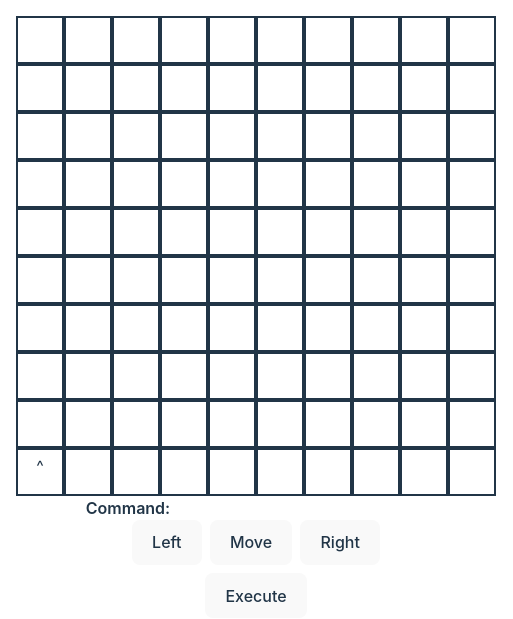
App should › Adds R to the command when we click Right
This screenshot has width=513, height=619.
Click the button "Right" at (340, 542), box x1=300 y1=520 x2=380 y2=565
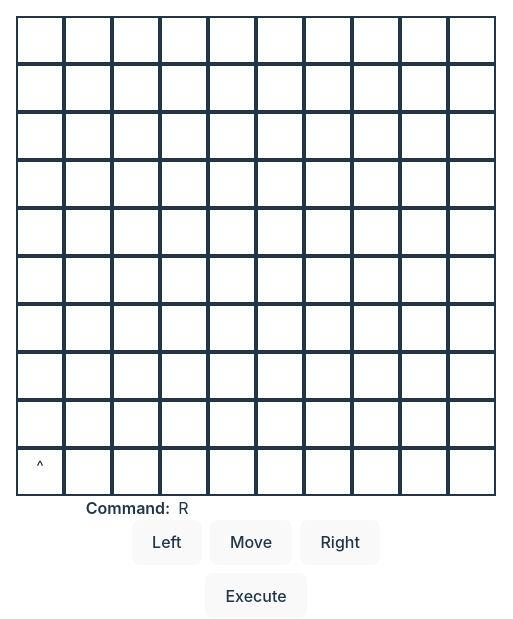
Check: the field labelled "Command:" holds "R", box x1=178 y1=496 x2=426 y2=520
